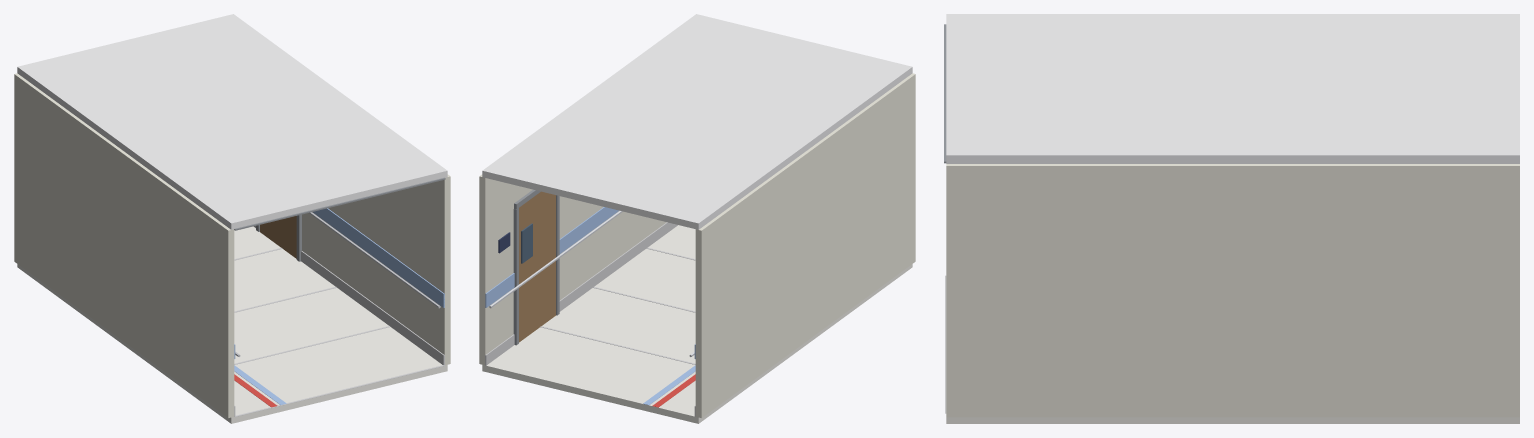
Rendered from CorridorA.obj.
The picture shows the model from 3 angles, left to right: view 1: azimuth 30°, elevation 25°; view 2: azimuth 150°, elevation 25°; view 3: azimuth 270°, elevation 25°; orthographic projection. The views are drawn at different scales.
Parts seen in each view (by area): view 1: CorridorA; view 2: CorridorA; view 3: CorridorA.
Boxes of the visible parts, x1=… form: CorridorA: x1=14, y1=14, x2=450, y2=423; CorridorA: x1=479, y1=14, x2=915, y2=423; CorridorA: x1=944, y1=14, x2=1519, y2=423.
Bounding box in the file's own units: 3.6 × 3.1 × 6.03.
1 material, 1 textured.
